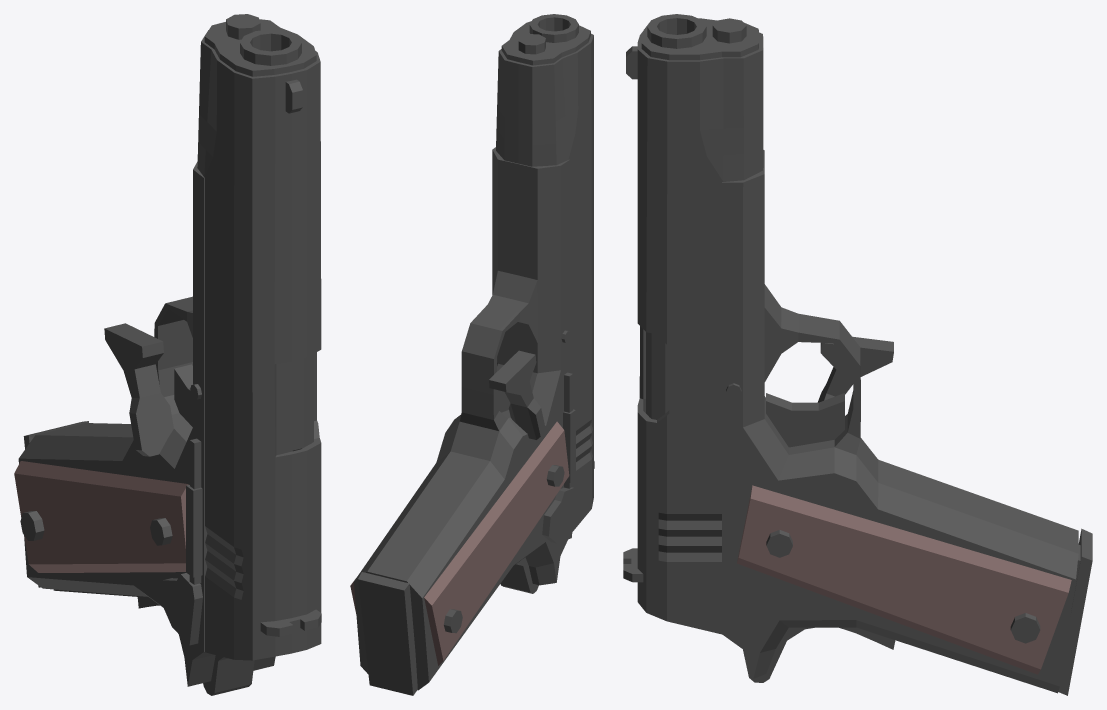
3 renders of one model, left to right at view 1: azimuth 30°, elevation 25°; view 2: azimuth 150°, elevation 25°; view 3: azimuth 270°, elevation 25°, orthographic. The views are drawn at different scales.
Parts seen in each view (by area): view 1: Cube.001, Cube, Cube.007, Cube.008, Cube.003, Cube.005, Cube.009, Cube.010, Cube.002, Cube.006, Cylinder.001, Cube.011 (+3 smaller); view 2: Cube, Cube.001, Cube.007, Cube.013, Cube.008, Cube.005, Cube.010, Cube.002, Cube.009, Cylinder.001, Cube.006, Cylinder; view 3: Cube.001, Cube, Cube.007, Cube.004, Cube.008, Cube.005, Cube.013, Cube.003, Cube.002, Cylinder.001, Cube.006, Cylinder.
Part boxes in pixels (bbox=[...]): Cube.001: bbox=[197, 30, 321, 660]; Cube: bbox=[18, 161, 275, 686]; Cube.007: bbox=[14, 461, 188, 572]; Cube.008: bbox=[104, 323, 173, 456]; Cube.003: bbox=[276, 354, 313, 454]; Cube.005: bbox=[204, 19, 316, 76]; Cube.009: bbox=[186, 438, 202, 584]; Cube.010: bbox=[161, 573, 202, 645]; Cube.002: bbox=[240, 29, 301, 65]; Cube.006: bbox=[53, 589, 254, 695]; Cylinder.001: bbox=[20, 384, 201, 545]; Cube.011: bbox=[260, 609, 321, 636]; Cube: bbox=[354, 147, 569, 690]; Cube.001: bbox=[496, 33, 593, 531]; Cube.007: bbox=[350, 421, 569, 665]; Cube.013: bbox=[358, 572, 417, 695]; Cube.008: bbox=[489, 350, 545, 439]; Cube.005: bbox=[501, 21, 590, 65]; Cube.010: bbox=[542, 487, 575, 543]; Cube.002: bbox=[529, 14, 578, 42]; Cube.009: bbox=[563, 372, 575, 488]; Cylinder.001: bbox=[443, 330, 570, 633]; Cube.006: bbox=[500, 557, 538, 593]; Cylinder: bbox=[518, 34, 545, 54]; Cube.001: bbox=[637, 31, 763, 634]; Cube: bbox=[722, 150, 1078, 693]; Cube.007: bbox=[737, 485, 1071, 674]; Cube.004: bbox=[766, 393, 844, 447]; Cube.008: bbox=[817, 336, 893, 402]; Cube.005: bbox=[641, 18, 758, 60]; Cube.013: bbox=[1058, 528, 1092, 695]; Cube.003: bbox=[646, 332, 669, 419]; Cube.002: bbox=[647, 14, 706, 48]; Cylinder.001: bbox=[726, 383, 1040, 643]; Cube.006: bbox=[743, 627, 895, 682]; Cylinder: bbox=[712, 18, 746, 43].
Size of the model in its own units: 0.0441 by 0.2425 by 0.1567.
